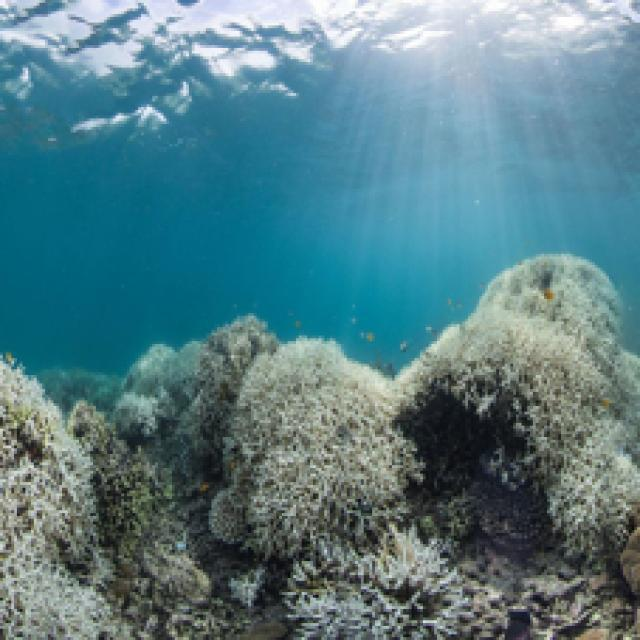Dead Coral: (466, 364, 550, 509), (456, 567, 617, 639), (174, 291, 235, 457)
